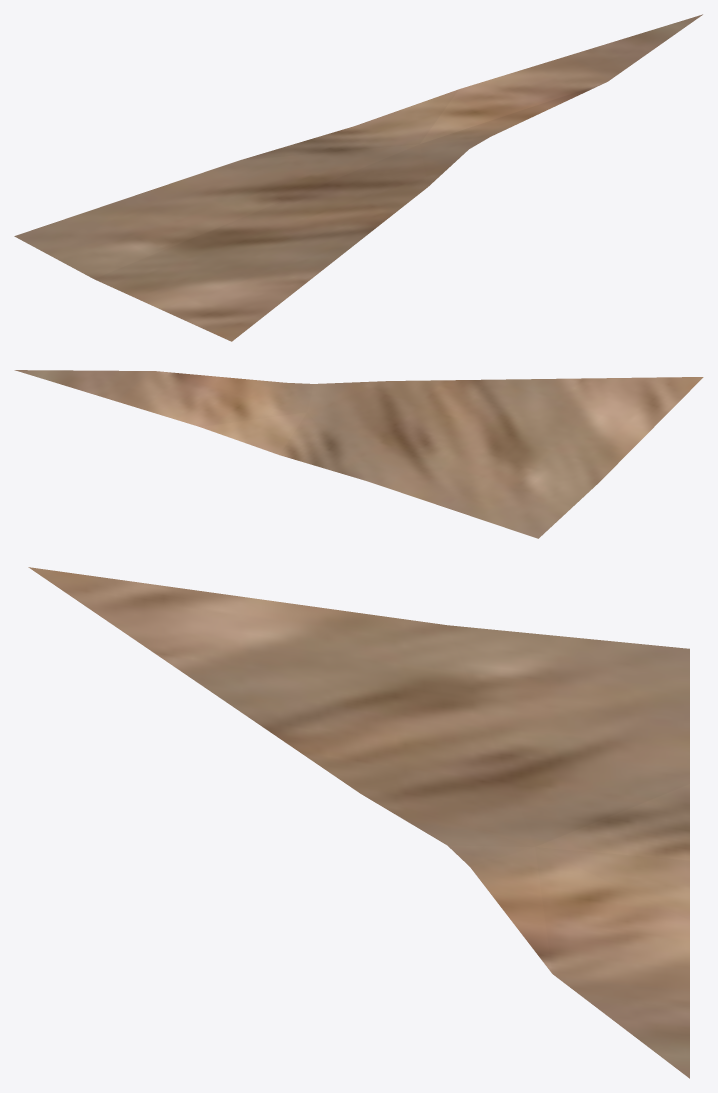
3 renders of one model, top to bottom at view 1: azimuth 30°, elevation 25°; view 2: azimuth 150°, elevation 25°; view 3: azimuth 270°, elevation 25°, orthographic. The views are drawn at different scales.
Bounding box in the file's own units: 0.9943 × 0.0741 × 0.5435.
Materials: 1 (1 with a texture image).
